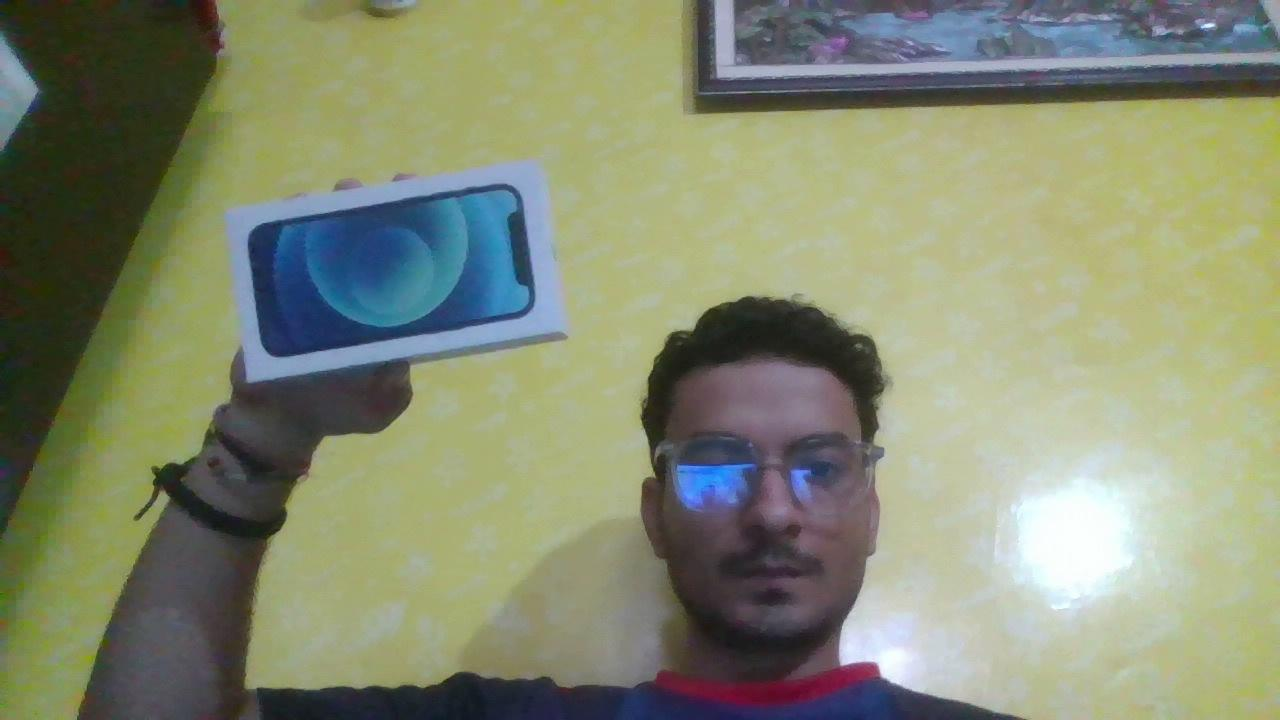Phone: (229, 127, 560, 399)
